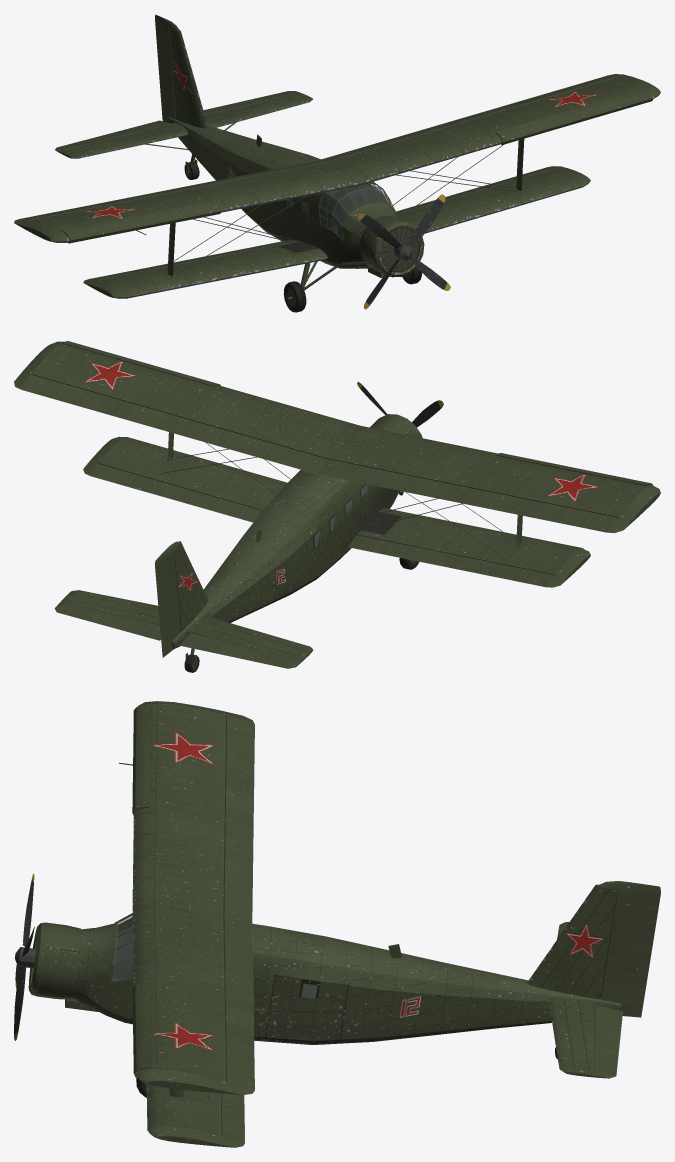
Rendered from an2_flyable.glb.
3 renders of one model, top to bottom at view 1: azimuth 30°, elevation 25°; view 2: azimuth 150°, elevation 25°; view 3: azimuth 270°, elevation 25°, orthographic. The views are drawn at different scales.
Parts seen in each view (by area): view 1: Part_Fuselage_LOD0, Part_Wing_Upper_L_LOD0, Part_Wing_Upper_R_LOD0, Part_Wing_Lower_R_Inner_LOD0, Part_Stabiliser_LOD0, Part_Wing_Lower_L_Inner_LOD0, Airscrew_LOD0, Part_Fin_LOD0, Part_Wing_Lower_R_Outer_LOD0, Part_Wing_Lower_L_Outer_LOD0, Part_Cowling_Ring_LOD0, Rudder_LOD0 (+7 smaller); view 2: Part_Wing_Upper_L_LOD0, Part_Wing_Upper_R_LOD0, Part_Fuselage_LOD0, Part_Wing_Lower_R_Inner_LOD0, Part_Wing_Lower_L_Inner_LOD0, Part_Stabiliser_LOD0, Part_Wing_Lower_R_Outer_LOD0, Elevator_LOD0, Part_Wing_Lower_L_Outer_LOD0, Aileron_L_LOD0, Aileron_R_LOD0, Rudder_LOD0 (+4 smaller); view 3: Part_Fuselage_LOD0, Part_Wing_Upper_R_LOD0, Part_Wing_Upper_L_LOD0, Rudder_LOD0, Part_Fin_LOD0, Door_Cargo_LOD0, Part_Wing_Lower_L_Outer_LOD0, Part_Stabiliser_LOD0, Aileron_R_LOD0, Aileron_L_LOD0, Elevator_LOD0, Part_Cowl_Panel_2_LOD0 (+4 smaller).
Boxes of the visible parts, bbox=[...] form: Part_Fuselage_LOD0: bbox=[167, 117, 398, 277]; Part_Wing_Upper_L_LOD0: bbox=[315, 74, 660, 185]; Part_Wing_Upper_R_LOD0: bbox=[14, 161, 361, 243]; Part_Wing_Lower_R_Inner_LOD0: bbox=[140, 240, 327, 288]; Part_Stabiliser_LOD0: bbox=[55, 91, 313, 158]; Part_Wing_Lower_L_Inner_LOD0: bbox=[396, 182, 535, 233]; Airscrew_LOD0: bbox=[357, 194, 450, 309]; Part_Fin_LOD0: bbox=[169, 28, 207, 128]; Part_Wing_Lower_R_Outer_LOD0: bbox=[83, 269, 176, 298]; Part_Wing_Lower_L_Outer_LOD0: bbox=[498, 166, 590, 201]; Part_Cowling_Ring_LOD0: bbox=[372, 221, 424, 277]; Rudder_LOD0: bbox=[155, 14, 179, 122]; Part_Wing_Upper_L_LOD0: bbox=[14, 341, 359, 473]; Part_Wing_Upper_R_LOD0: bbox=[315, 425, 660, 532]; Part_Fuselage_LOD0: bbox=[172, 470, 403, 649]; Part_Wing_Lower_R_Inner_LOD0: bbox=[348, 508, 533, 577]; Part_Wing_Lower_L_Inner_LOD0: bbox=[139, 450, 287, 522]; Part_Stabiliser_LOD0: bbox=[54, 590, 312, 668]; Part_Wing_Lower_R_Outer_LOD0: bbox=[497, 538, 590, 587]; Elevator_LOD0: bbox=[57, 602, 295, 668]; Part_Wing_Lower_L_Outer_LOD0: bbox=[83, 436, 174, 489]; Aileron_L_LOD0: bbox=[21, 375, 162, 426]; Aileron_R_LOD0: bbox=[477, 491, 617, 532]; Rudder_LOD0: bbox=[155, 541, 181, 657]; Part_Fuselage_LOD0: bbox=[65, 913, 621, 1044]; Part_Wing_Upper_R_LOD0: bbox=[119, 701, 254, 924]; Part_Wing_Upper_L_LOD0: bbox=[132, 903, 254, 1094]; Rudder_LOD0: bbox=[598, 881, 660, 1017]; Part_Fin_LOD0: bbox=[527, 884, 617, 999]; Door_Cargo_LOD0: bbox=[265, 975, 348, 1039]; Part_Wing_Lower_L_Outer_LOD0: bbox=[147, 1098, 244, 1147]; Part_Stabiliser_LOD0: bbox=[549, 922, 615, 1078]; Aileron_R_LOD0: bbox=[224, 716, 254, 813]; Aileron_L_LOD0: bbox=[224, 1007, 254, 1089]; Elevator_LOD0: bbox=[594, 1005, 622, 1075]; Part_Cowl_Panel_2_LOD0: bbox=[38, 947, 79, 997].
Size of what is drawn, in the model's own units: 50.9 by 11.34 by 36.68.
2 materials, 2 textured.
